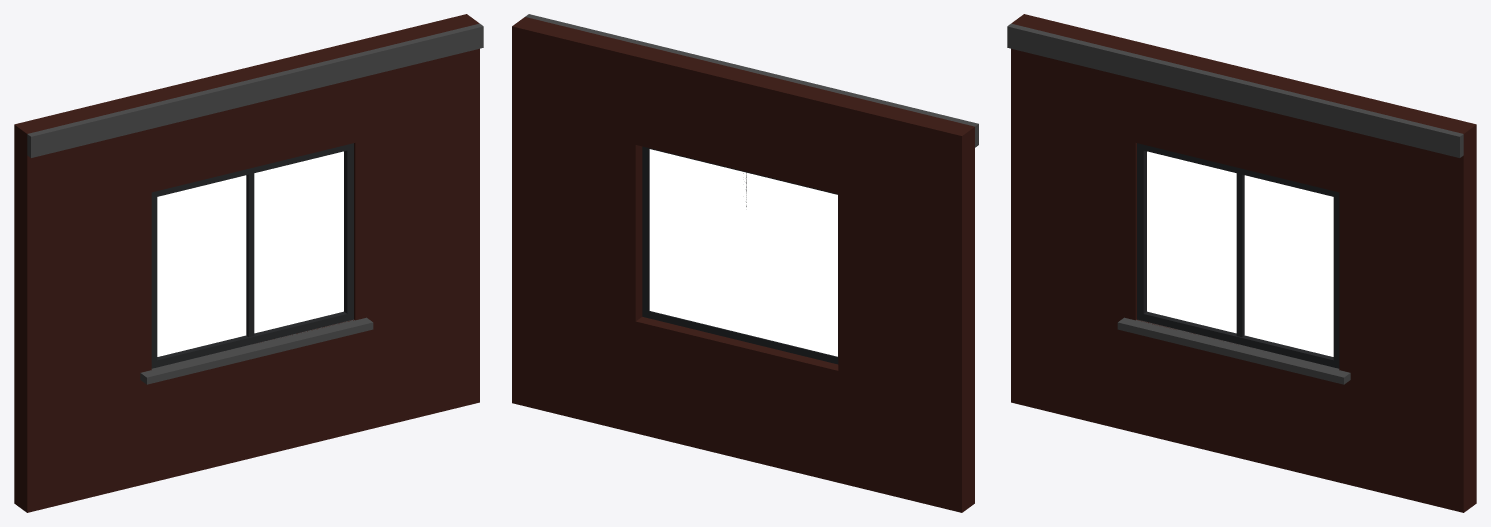
File: KIT_Wall_4m_WindowLit_BrickDark.glb
The picture shows the model from 3 angles, left to right: view 1: azimuth 30°, elevation 25°; view 2: azimuth 150°, elevation 25°; view 3: azimuth 330°, elevation 25°; orthographic projection.
Parts seen in each view (by area): view 1: KIT_Wall_4m_WindowLit_BrickDark; view 2: KIT_Wall_4m_WindowLit_BrickDark; view 3: KIT_Wall_4m_WindowLit_BrickDark.
Part boxes in pixels (x1,y1,x2,y2): KIT_Wall_4m_WindowLit_BrickDark: (14,14,483,512); KIT_Wall_4m_WindowLit_BrickDark: (512,14,978,512); KIT_Wall_4m_WindowLit_BrickDark: (1007,14,1476,512).
Bounding box in the file's own units: 4 × 3.2 × 0.3.
